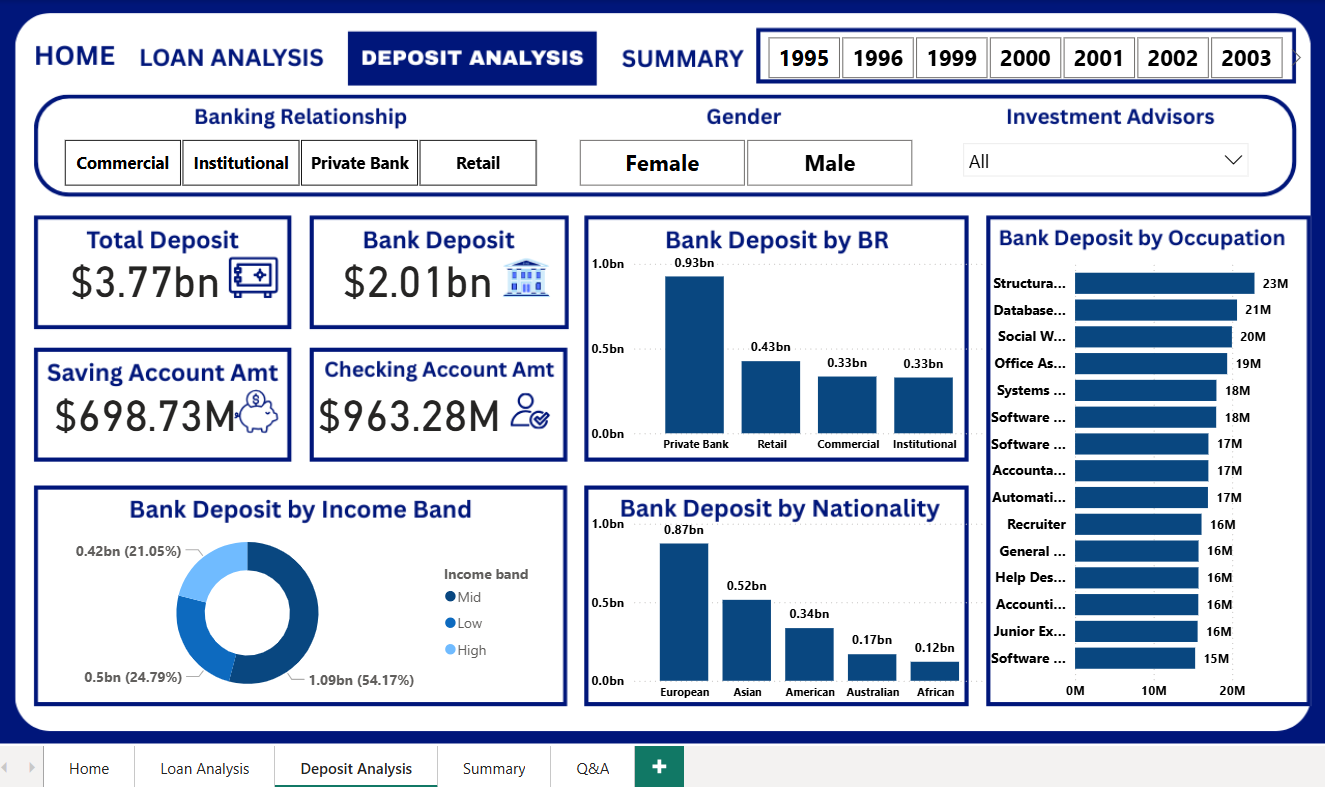

This screenshot's page, from the dashboard's own definition file:
{"tool":"powerbi","page":{"name":"Deposit Analysis","canvas":[1280,720],"ordinal":2},"visuals":[{"type":"card","fields":{"Values":["Explicit Measures.Total Deposit"]},"box":[26.1,230.5,227.8,74.1],"z":0},{"type":"card","fields":{"Values":["Sum(public banking.saving_accounts)"]},"box":[26.1,359.5,227.8,74.1],"z":1000},{"type":"card","fields":{"Values":["Sum(public banking.bank_deposits)"]},"box":[289.5,230.5,227.8,74.1],"z":2000},{"type":"card","fields":{"Values":["Sum(public banking.checking_accounts)"]},"box":[289.5,359.5,211.3,74.1],"z":3000},{"type":"slicer","fields":{"Values":["public banking.joined_bank_Year"]},"box":[715.4,29,546.5,53.1],"z":4000},{"type":"slicer","fields":{"Values":["public banking.Banking Relationship"]},"box":[36.2,127.9,505.5,57.9],"z":5000},{"type":"slicer","fields":{"Values":["public banking.genderid"]},"box":[533.2,127.9,371.6,57.9],"z":6000},{"type":"slicer","fields":{"Values":["public banking.Investment Advisors"]},"box":[919.3,127.9,295.6,57.9],"z":7000},{"type":"donutChart","fields":{"Category":["public banking.Income band"],"Y":["Sum(public banking.bank_deposits)"]},"box":[44.6,498.3,488.6,187],"z":8000},{"type":"clusteredColumnChart","fields":{"Category":["public banking.Banking Relationship"],"Y":["Sum(public banking.bank_deposits)"]},"box":[565.8,230.4,390.9,216],"z":9000},{"type":"clusteredColumnChart","fields":{"Category":["public banking.nationality"],"Y":["Sum(public banking.bank_deposits)"]},"box":[565.8,487.4,390.9,197.9],"z":10000},{"type":"barChart","fields":{"Category":["public banking.occupation"],"Y":["Sum(public banking.bank_deposits)"]},"box":[939.8,240.1,340.2,445.2],"z":11000},{"type":"actionButton","box":[26.5,29,92.9,53.1],"z":12000},{"type":"actionButton","box":[119.4,27.4,205.8,53.5],"z":13000},{"type":"actionButton","box":[585.1,29,142.4,53.1],"z":14000}]}

Visuals, with their boxes on the page's 1280x720 design canvas (x1, y1, x2, y2). These are canvas units, not pixel positions in the 1325x787 screenshot, which may show the page scaled, cropped or inside an application window:
card - Explicit Measures.Total Deposit: box(26, 230, 254, 305)
card - Sum(public banking.saving_accounts): box(26, 360, 254, 434)
card - Sum(public banking.bank_deposits): box(290, 230, 517, 305)
card - Sum(public banking.checking_accounts): box(290, 360, 501, 434)
slicer - public banking.joined_bank_Year: box(715, 29, 1262, 82)
slicer - public banking.Banking Relationship: box(36, 128, 542, 186)
slicer - public banking.genderid: box(533, 128, 905, 186)
slicer - public banking.Investment Advisors: box(919, 128, 1215, 186)
donutChart - public banking.Income band x Sum(public banking.bank_deposits): box(45, 498, 533, 685)
clusteredColumnChart - public banking.Banking Relationship x Sum(public banking.bank_deposits): box(566, 230, 957, 446)
clusteredColumnChart - public banking.nationality x Sum(public banking.bank_deposits): box(566, 487, 957, 685)
barChart - public banking.occupation x Sum(public banking.bank_deposits): box(940, 240, 1280, 685)
actionButton: box(26, 29, 119, 82)
actionButton: box(119, 27, 325, 81)
actionButton: box(585, 29, 728, 82)
